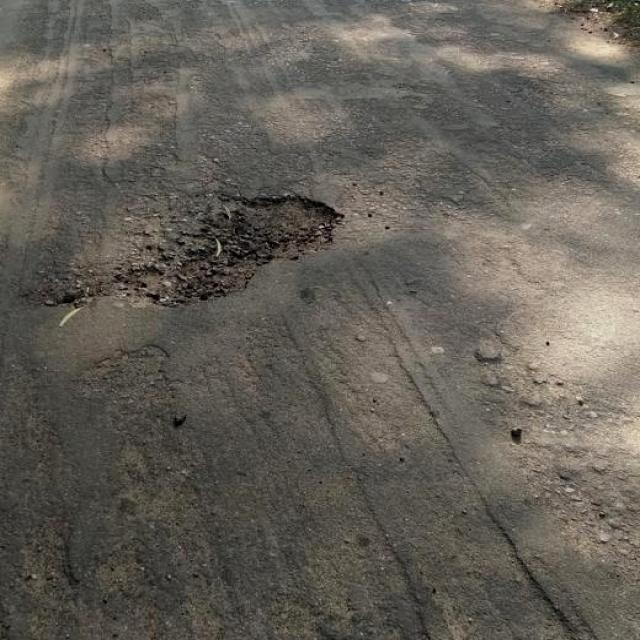road-pothole: (29, 196, 345, 312)
